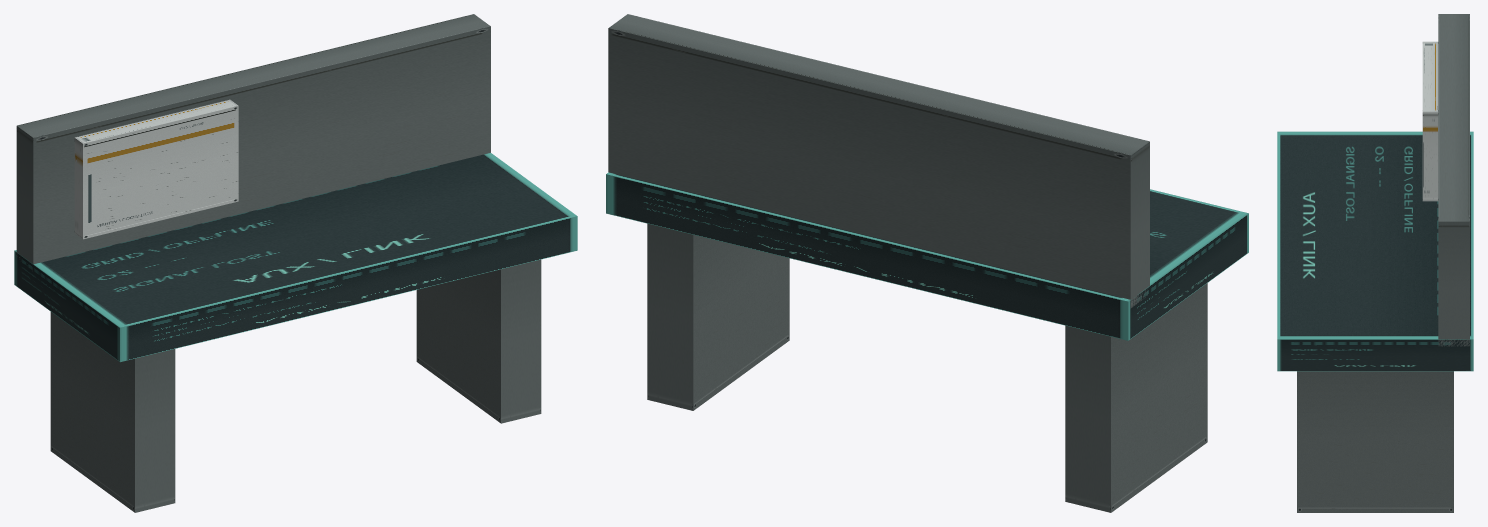
File: workbench_LOD2.obj
The picture shows the model from 3 angles, left to right: view 1: azimuth 30°, elevation 25°; view 2: azimuth 150°, elevation 25°; view 3: azimuth 270°, elevation 25°; orthographic projection. The views are drawn at different scales.
Visible parts, largest first — view 1: L02_workbench_LOD2; view 2: L02_workbench_LOD2; view 3: L02_workbench_LOD2.
Part boxes in pixels (bbox=[...]): L02_workbench_LOD2: bbox=[14, 14, 577, 512]; L02_workbench_LOD2: bbox=[606, 14, 1248, 512]; L02_workbench_LOD2: bbox=[1277, 14, 1473, 512].
Bounding box in the file's own units: 2.5 × 1.7 × 1.
Materials: 1 (1 with a texture image).
